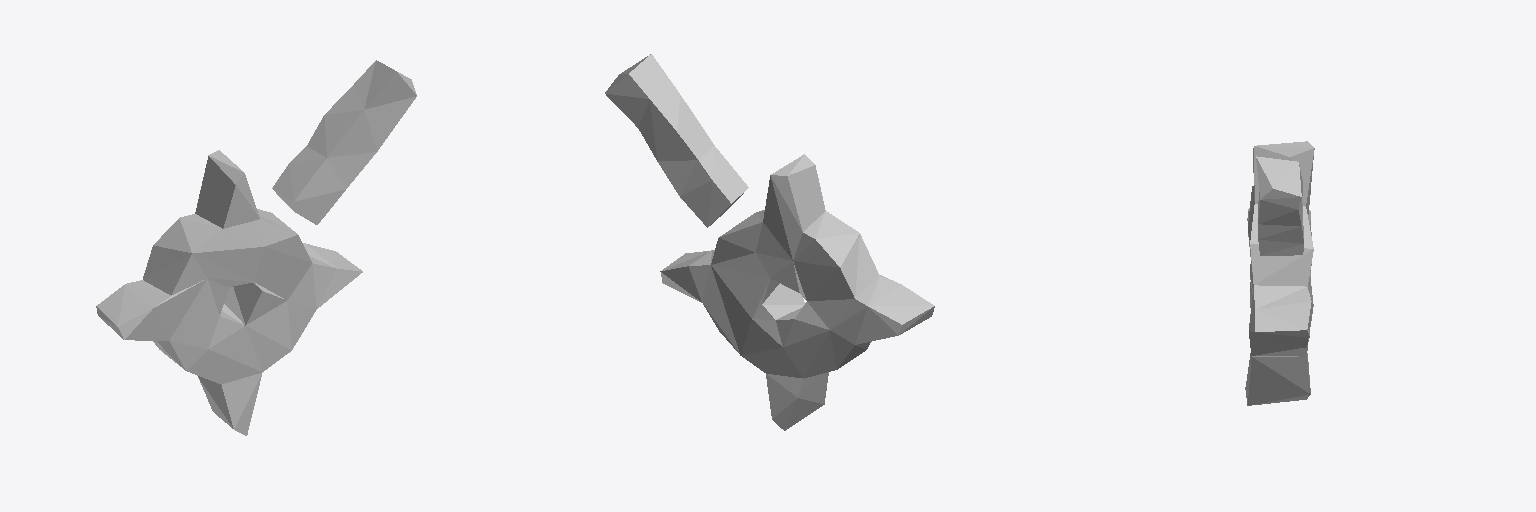
File: 3d_mace.obj
The picture shows the model from 3 angles: view 1: azimuth 30°, elevation 25°; view 2: azimuth 150°, elevation 25°; view 3: azimuth 270°, elevation 25°; orthographic projection.
Parts seen in each view (by area): view 1: Mace_Curve.010; view 2: Mace_Curve.010; view 3: Mace_Curve.010.
Boxes of the visible parts, x1=… form: Mace_Curve.010: x1=96, y1=60, x2=416, y2=435; Mace_Curve.010: x1=605, y1=54, x2=934, y2=430; Mace_Curve.010: x1=1245, y1=141, x2=1314, y2=405.
Bounding box in the file's own units: 0.8188 × 0.8323 × 0.161.